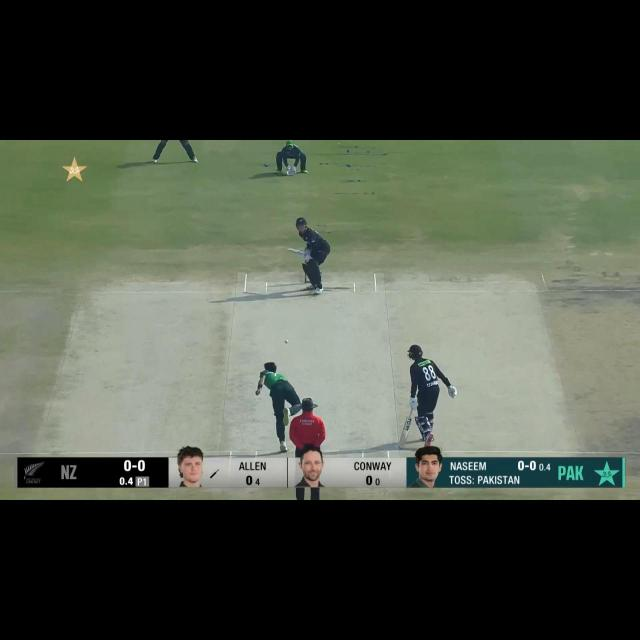bat: (398, 416, 414, 449), (285, 246, 304, 255)
toe: (397, 440, 407, 449), (286, 247, 294, 252)
